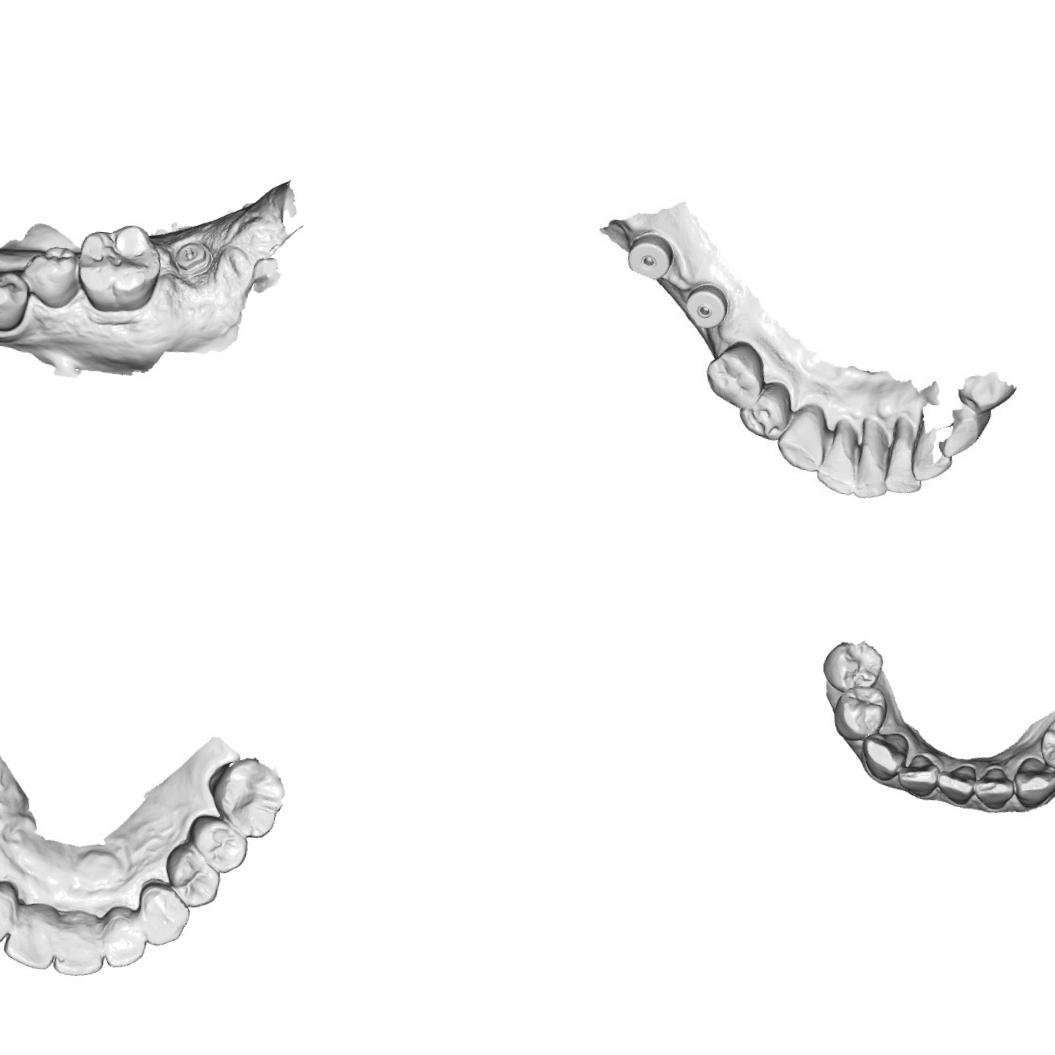canine: (132, 880, 195, 952), (776, 403, 828, 473), (858, 729, 910, 783), (1011, 755, 1055, 812)
implant: (677, 279, 736, 336), (624, 229, 674, 282)
implant_minus: (168, 238, 216, 282)
incisor: (0, 902, 61, 973), (50, 910, 109, 980), (850, 418, 896, 500), (96, 909, 150, 972), (819, 420, 866, 492), (884, 424, 926, 492), (894, 751, 941, 799), (970, 764, 1016, 812), (934, 758, 979, 806), (0, 884, 16, 947)
molar: (72, 216, 166, 318), (204, 754, 290, 842)
premolar: (161, 842, 227, 912), (18, 241, 83, 312), (704, 342, 771, 408), (184, 812, 252, 877), (820, 636, 886, 697), (734, 378, 796, 442), (830, 682, 890, 745), (0, 265, 33, 335), (1035, 717, 1055, 779)
